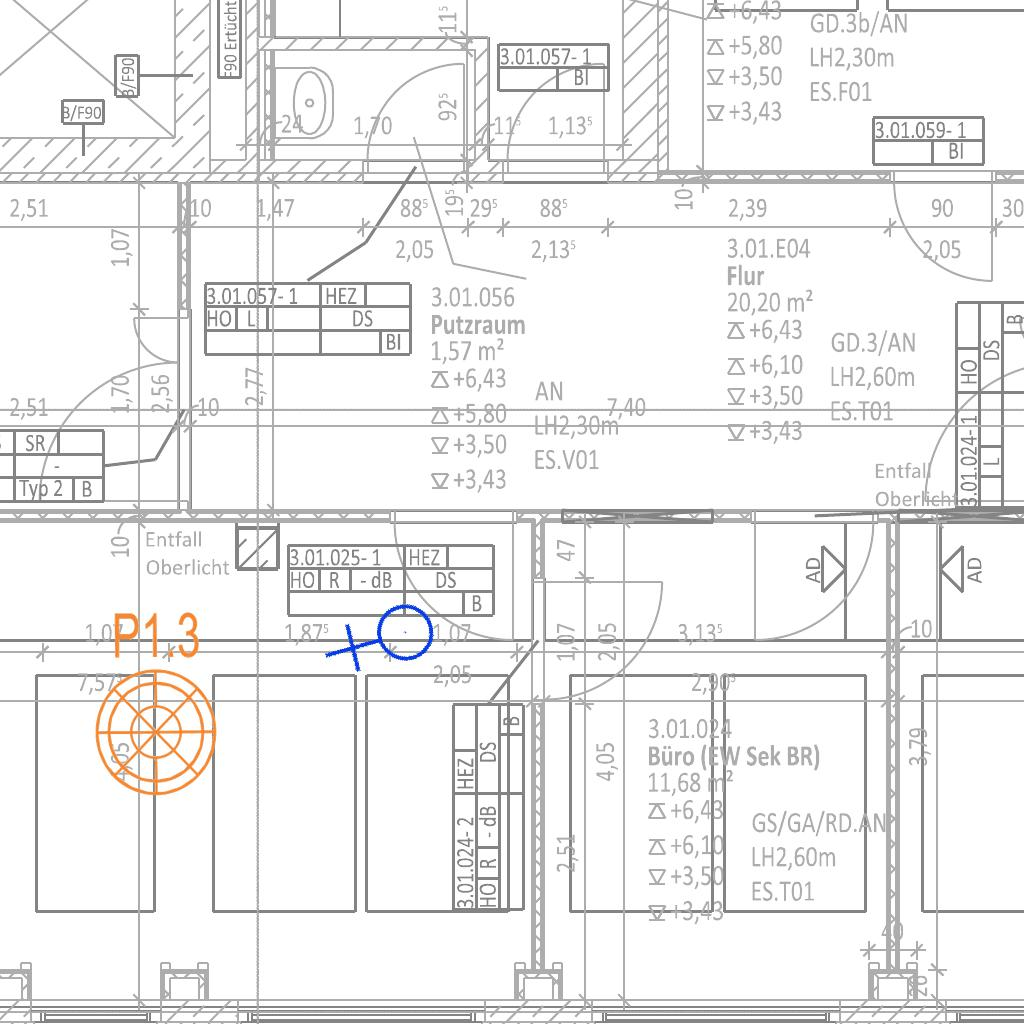Aufbaurundleuchte_LED_Treppenhaus: (92, 594, 231, 799)
Elektroanschluss_allgemein_230V_Geraeteanschlussdose_230V: (320, 577, 453, 707)
